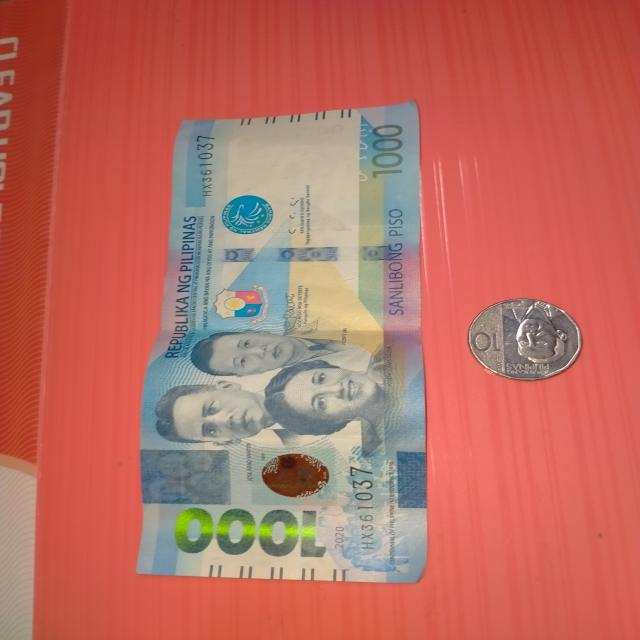concealed_value: (139, 448, 233, 504)
optically_variable_device: (250, 445, 342, 507)
see_through_mark: (343, 117, 378, 196)
